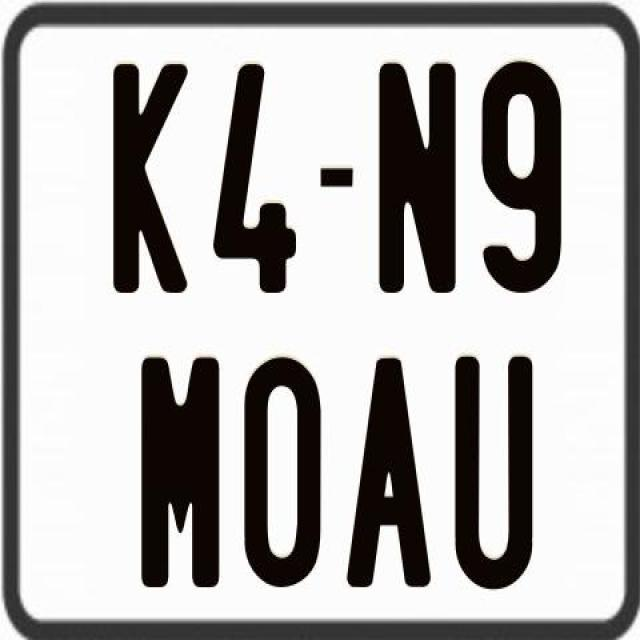0: (244, 354, 328, 588)
4: (212, 61, 299, 292)
9: (478, 61, 558, 294)
A: (346, 358, 436, 588)
K: (110, 63, 188, 294)
M: (142, 357, 226, 589)
N: (374, 63, 458, 300)
U: (450, 352, 534, 584)
